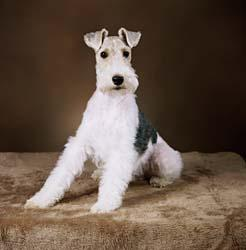wire-haired_fox_terrier: (23, 27, 184, 214)
